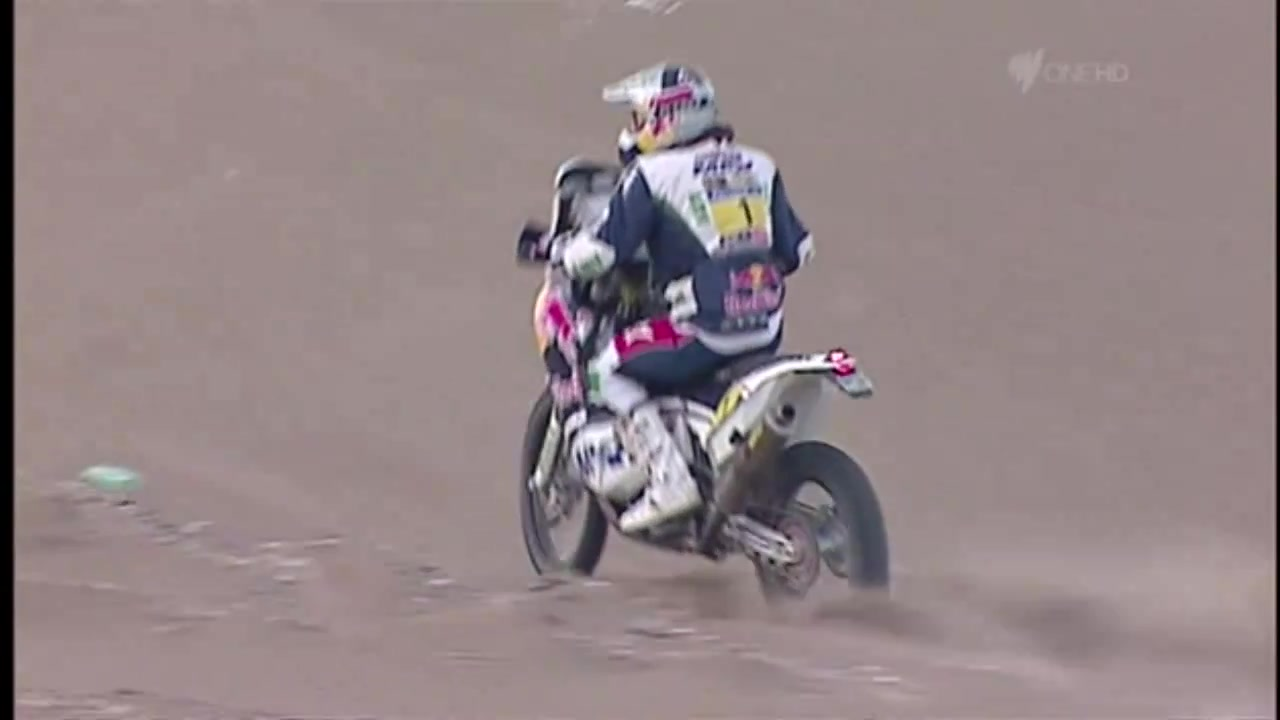motorbike: (520, 165, 896, 615)
